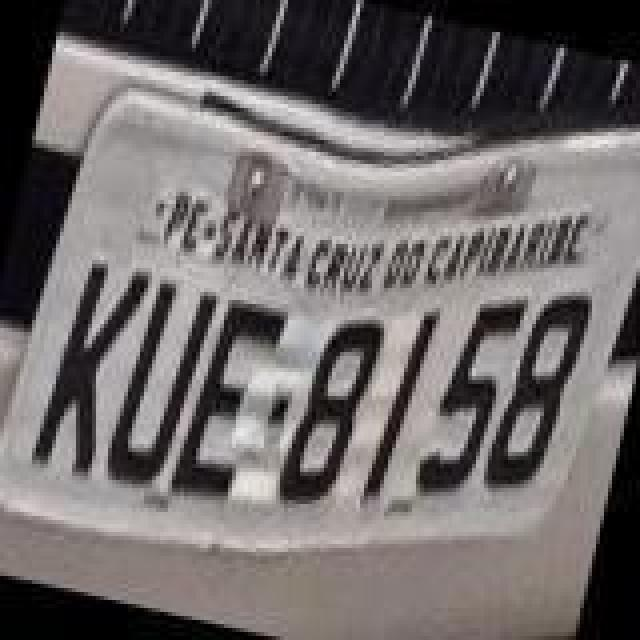1: (358, 298, 442, 510)
5: (412, 280, 532, 512)
8: (478, 278, 594, 506), (274, 306, 390, 518)
E: (166, 288, 290, 512)
K: (24, 252, 152, 484)
U: (100, 276, 220, 500)
